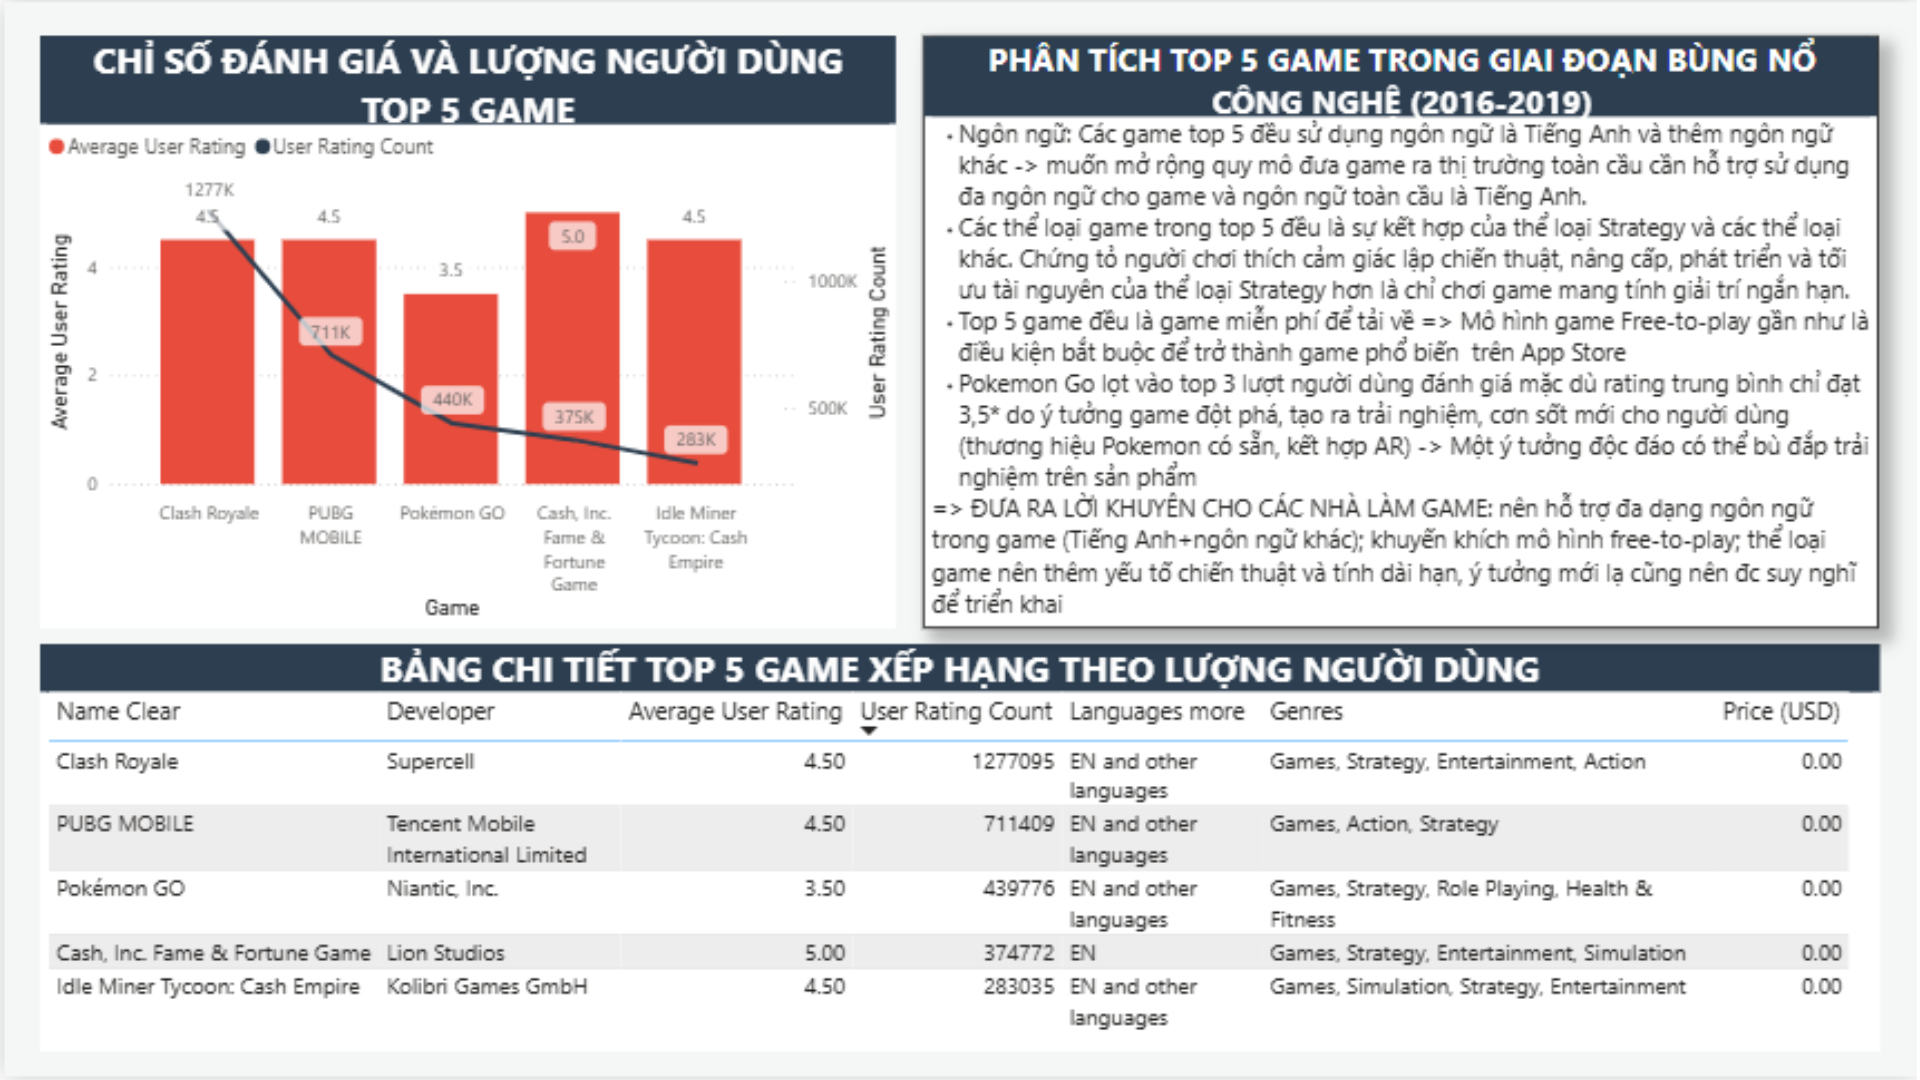

The dashboard page shown, as its layout file describes it:
{"tool":"powerbi","page":{"name":"New Era (2016-2019)","canvas":[1280,720],"ordinal":4},"visuals":[{"type":"lineStackedColumnComboChart","title":"CHỈ SỐ ĐÁNH GIÁ VÀ LƯỢNG NGƯỜI DÙNG TOP 5 GAME","fields":{"Y":["Avg(App Store Games.Average User Rating)"],"Y2":["Avg(App Store Games.User Rating Count)"],"Category":["App Store Games.Name Clear"]},"box":[23.3,21.7,573.3,396.7],"z":0},{"type":"tableEx","title":"BẢNG CHI TIẾT TOP 5 GAME XẾP HẠNG THEO LƯỢNG NGƯỜI DÙNG","fields":{"Values":["App Store Games.Name Clear","App Store Games.Developer","App Store Games.Average User Rating","App Store Games.User Rating Count","App Store Games.Languages more","App Store Games.Genres","App Store Games.Price per App (USD)"]},"box":[23.3,430,1231.7,273.3],"z":1},{"type":"textbox","title":"PHÂN TÍCH TOP 5 GAME TRONG GIAI ĐOẠN BÙNG NỔ CÔNG NGHỆ (2016-2019)","box":[615,21.7,640,396.7],"z":2}]}

Visuals, with their boxes in screenshot pixels (x1, y1, x2, y2), scaled from the page's 1280x720 canvas onto the 1920x1080 screenshot:
"CHỈ SỐ ĐÁNH GIÁ VÀ LƯỢNG NGƯỜI DÙNG TOP 5 GAME" lineStackedColumnComboChart: [35, 33, 895, 628]
"BẢNG CHI TIẾT TOP 5 GAME XẾP HẠNG THEO LƯỢNG NGƯỜI DÙNG" tableEx: [35, 645, 1882, 1055]
"PHÂN TÍCH TOP 5 GAME TRONG GIAI ĐOẠN BÙNG NỔ CÔNG NGHỆ (2016-2019)" textbox: [922, 33, 1882, 628]
